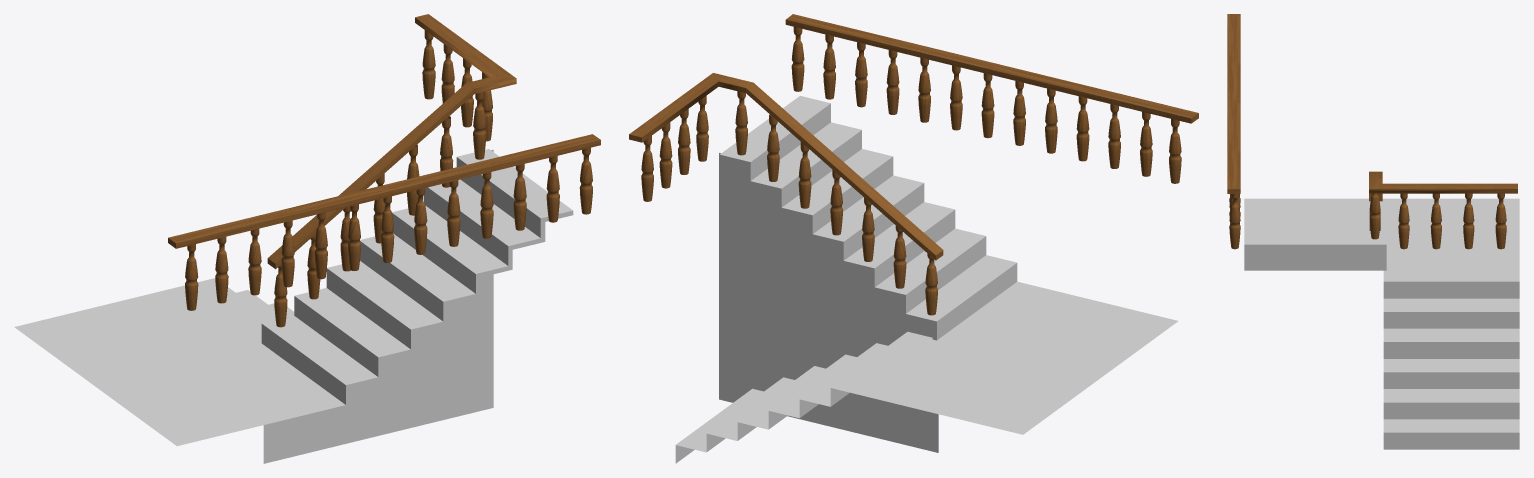
File: SM_Stair_02_What.fbx
The picture shows the model from 3 angles, left to right: view 1: azimuth 30°, elevation 25°; view 2: azimuth 150°, elevation 25°; view 3: azimuth 270°, elevation 25°; orthographic projection. The views are drawn at different scales.
Parts seen in each view (by area): view 1: stair1, stair2, wall, keg1.001, beam2, beam1, keg2.002, keg2.001; view 2: stair1, wall, stair2, keg1.001, beam1, beam2, keg2.002, keg2.001; view 3: stair1, stair2, beam2, keg2.001, beam1, keg1.001, keg2.002.
Boxes of the visible parts, bbox=[...] form: stair1: bbox=[14, 278, 345, 446]; stair2: bbox=[261, 149, 573, 404]; wall: bbox=[263, 149, 493, 463]; keg1.001: bbox=[185, 147, 592, 310]; beam2: bbox=[168, 134, 600, 248]; beam1: bbox=[267, 14, 516, 269]; keg2.002: bbox=[274, 92, 486, 327]; keg2.001: bbox=[422, 30, 492, 141]; stair1: bbox=[675, 281, 1178, 463]; wall: bbox=[719, 153, 938, 452]; stair2: bbox=[719, 96, 1017, 340]; keg1.001: bbox=[791, 27, 1181, 183]; beam1: bbox=[629, 73, 943, 260]; beam2: bbox=[785, 14, 1198, 123]; keg2.002: bbox=[735, 91, 937, 315]; keg2.001: bbox=[641, 96, 708, 201]; stair1: bbox=[1244, 198, 1519, 449]; stair2: bbox=[1244, 231, 1386, 270]; beam2: bbox=[1227, 14, 1240, 193]; keg2.001: bbox=[1398, 193, 1506, 249]; beam1: bbox=[1369, 171, 1517, 201]; keg1.001: bbox=[1229, 193, 1240, 249]; keg2.002: bbox=[1369, 193, 1380, 239].
Size of the model in its own units: 1349 by 1913 by 1429.
